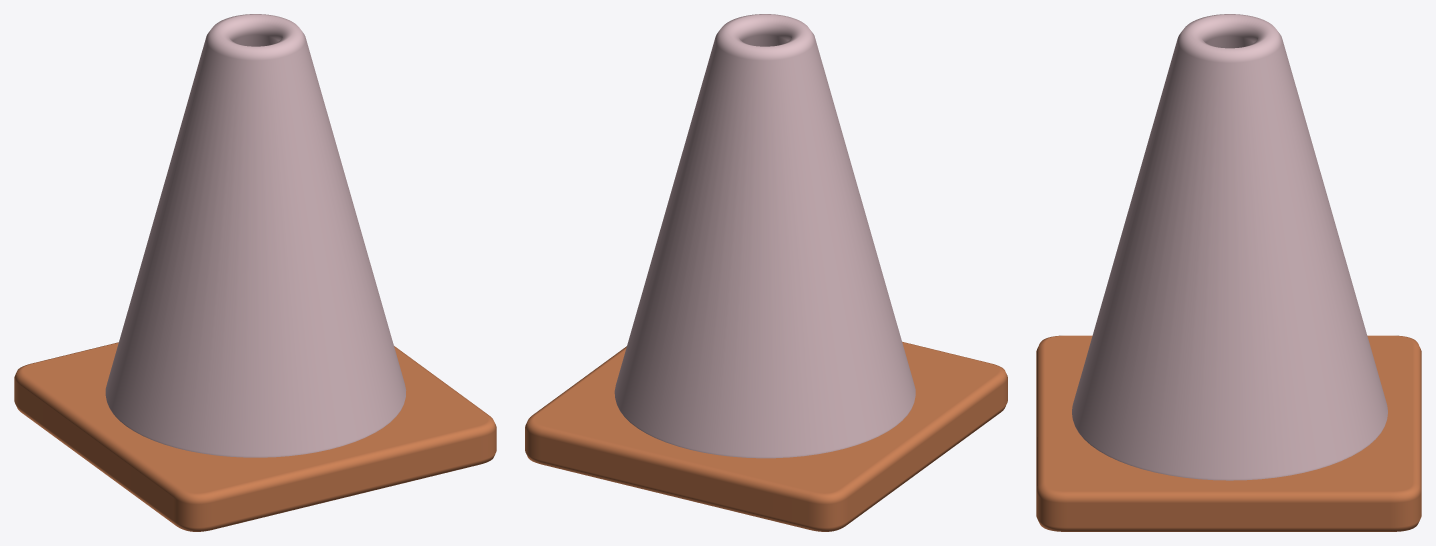
3 renders of one model, left to right at view 1: azimuth 30°, elevation 25°; view 2: azimuth 150°, elevation 25°; view 3: azimuth 270°, elevation 25°, orthographic. The views are drawn at different scales.
Visible parts, largest first — view 1: Cylinder, Rectangle 2; view 2: Cylinder, Rectangle 2; view 3: Cylinder, Rectangle 2.
Boxes of the visible parts, x1=… form: Cylinder: x1=105, y1=14, x2=406, y2=457; Rectangle 2: x1=14, y1=342, x2=496, y2=531; Cylinder: x1=614, y1=14, x2=915, y2=458; Rectangle 2: x1=525, y1=341, x2=1007, y2=531; Cylinder: x1=1072, y1=14, x2=1387, y2=480; Rectangle 2: x1=1036, y1=335, x2=1421, y2=531.
Bounding box in the file's own units: 0.6908 × 0.8357 × 0.6908.
